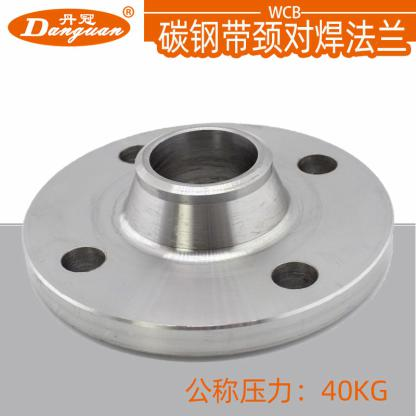FOD: (17, 120, 399, 357)
